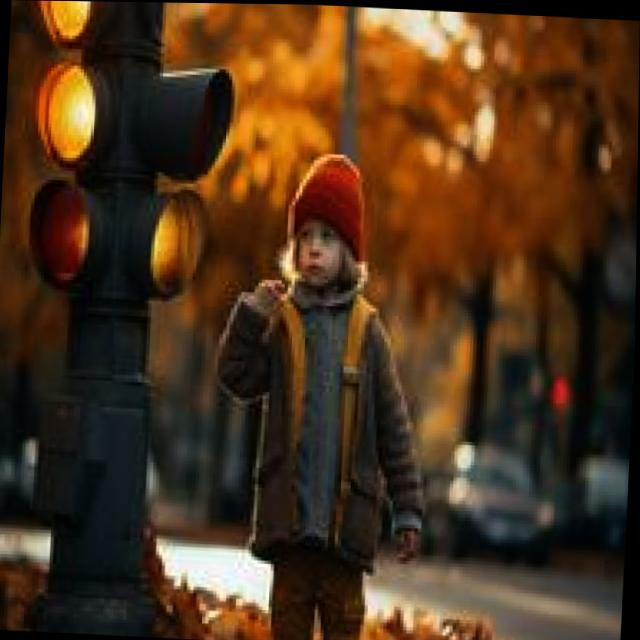yellow_light: (18, 69, 124, 169), (8, 0, 130, 48)
